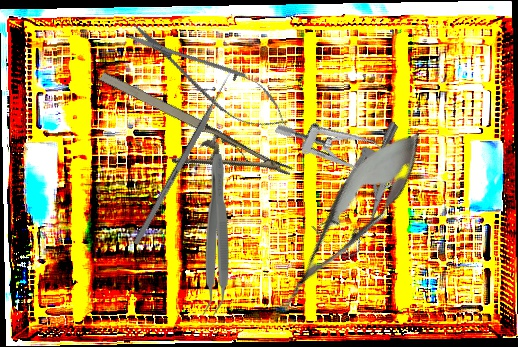Micro Scissor: (260, 115, 439, 326), (115, 8, 299, 145)
Needle Holder: (81, 65, 294, 215)
Pusher: (132, 69, 235, 246)
Speculum: (292, 120, 444, 265), (273, 86, 409, 206)
Tissue Forceps: (201, 154, 229, 315)
